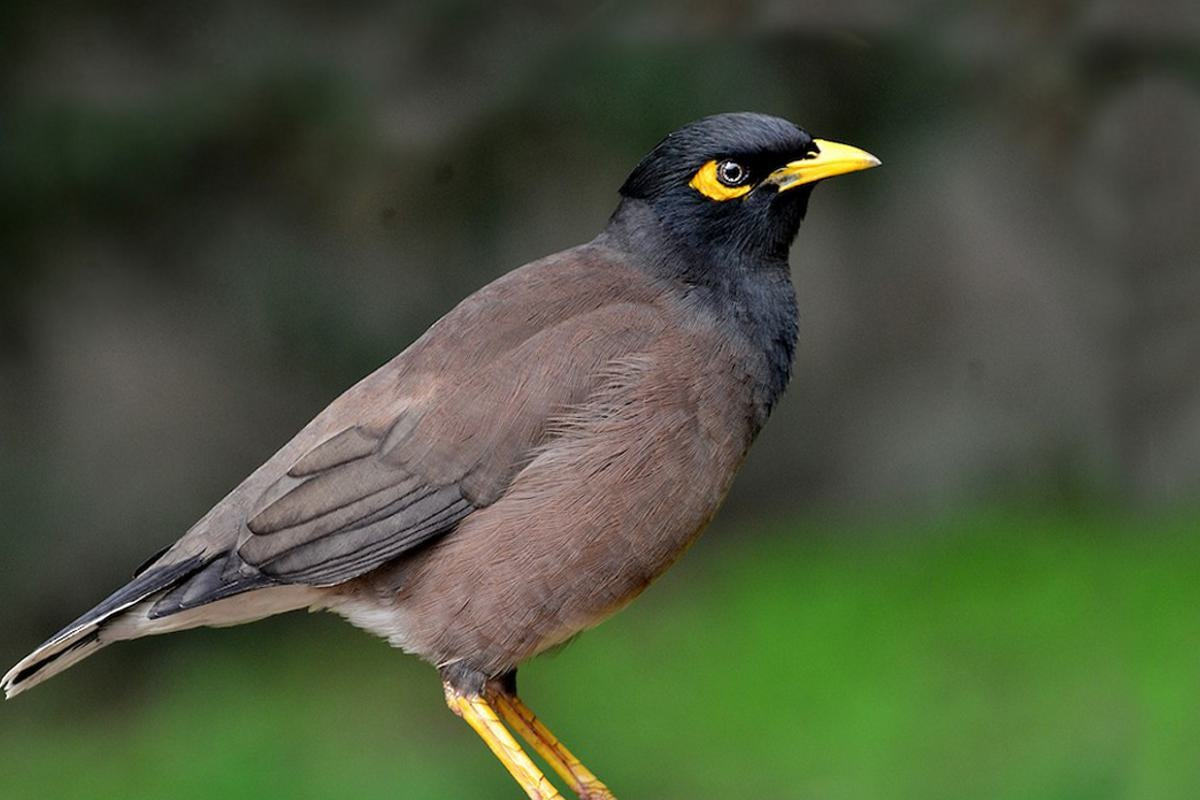myna: (21, 103, 915, 800)
